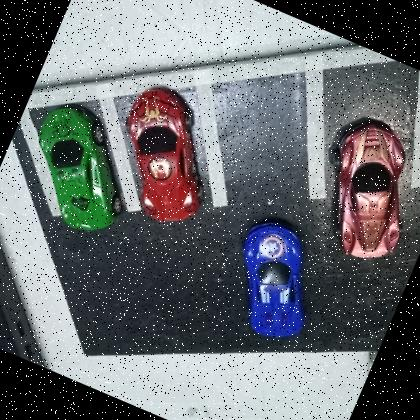Car: (92, 79, 238, 237), (10, 96, 153, 242), (298, 110, 420, 272), (210, 211, 338, 350)
